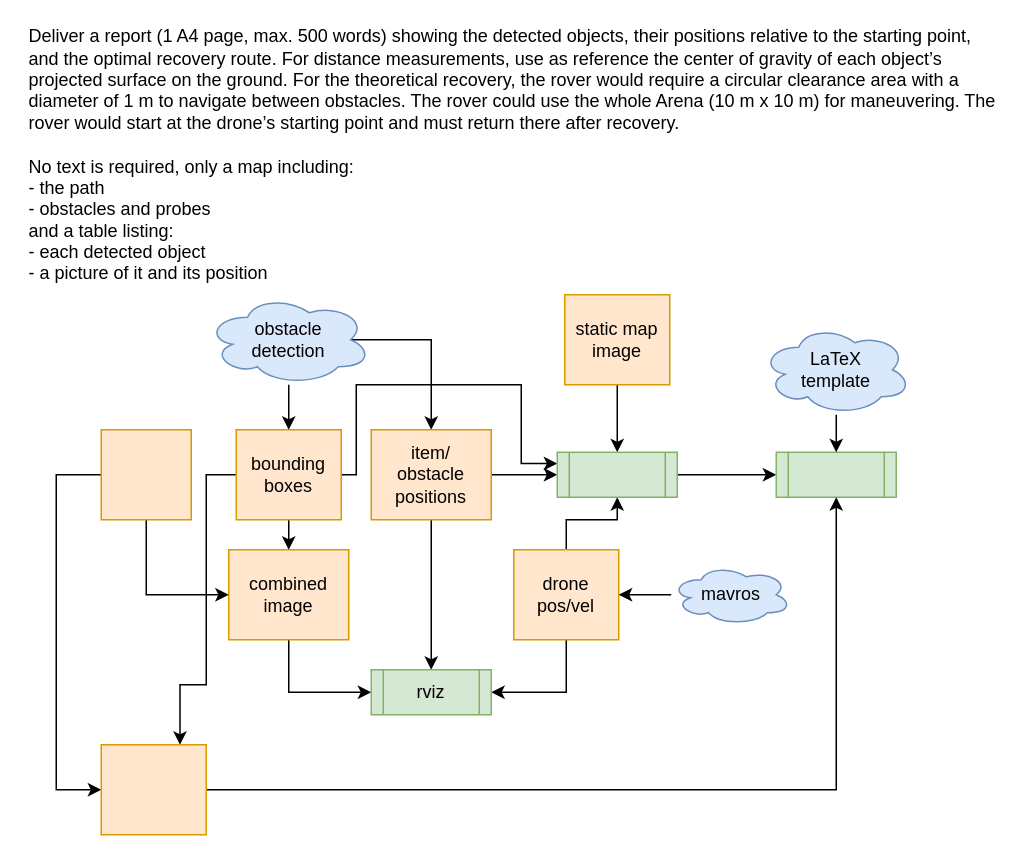
Image size: 1026x861. Some labels were removed from this diagram. Here are the shapes that lost their labels. From the top down, the centre of each, then its label:
the point at 145,474: camera view
the point at 616,474: map
the point at 835,474: report
the point at 153,789: obstacle and probe pictures
